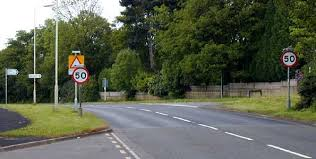Speed_limit_50km: (72, 67, 89, 84), (281, 52, 298, 68)
